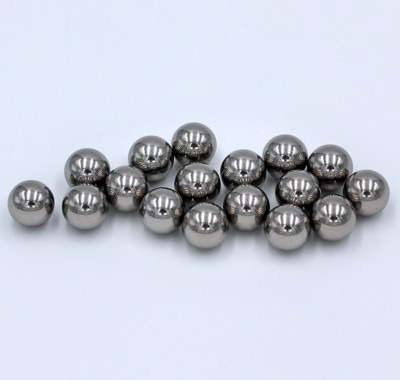ironball: (342, 168, 389, 216), (181, 201, 228, 249), (263, 203, 310, 251), (222, 183, 269, 231), (7, 179, 54, 226), (61, 183, 108, 230), (310, 193, 356, 241), (306, 143, 352, 191), (127, 134, 173, 182), (138, 186, 183, 234), (104, 164, 148, 212), (262, 133, 307, 179), (170, 121, 216, 165), (219, 148, 266, 190), (174, 161, 220, 203), (63, 147, 109, 187), (274, 169, 320, 207)
